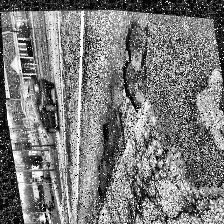pothole: (108, 13, 160, 118), (96, 117, 113, 139)
